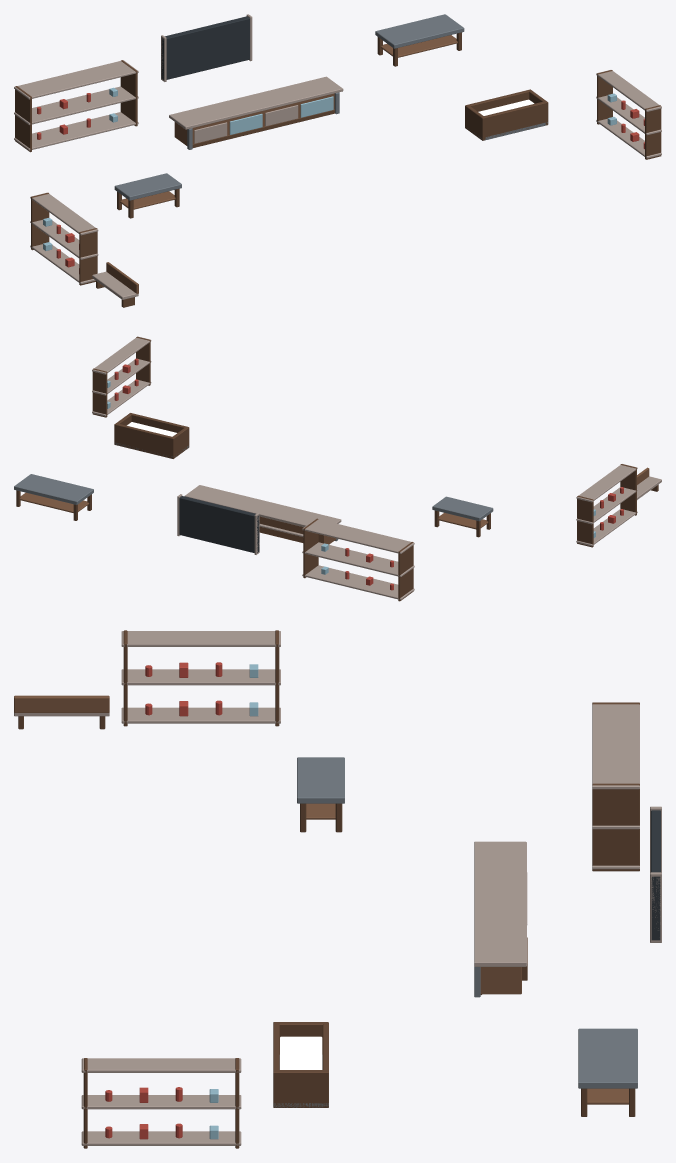
The model's file is ridgecooler_larder.lod1.glb.
3 views of the same model, one above another, from view 1: azimuth 30°, elevation 25°; view 2: azimuth 150°, elevation 25°; view 3: azimuth 270°, elevation 25° (orthographic). The views are drawn at different scales.
Bounding box in the file's own units: 25.85 × 2.76 × 16.25.
